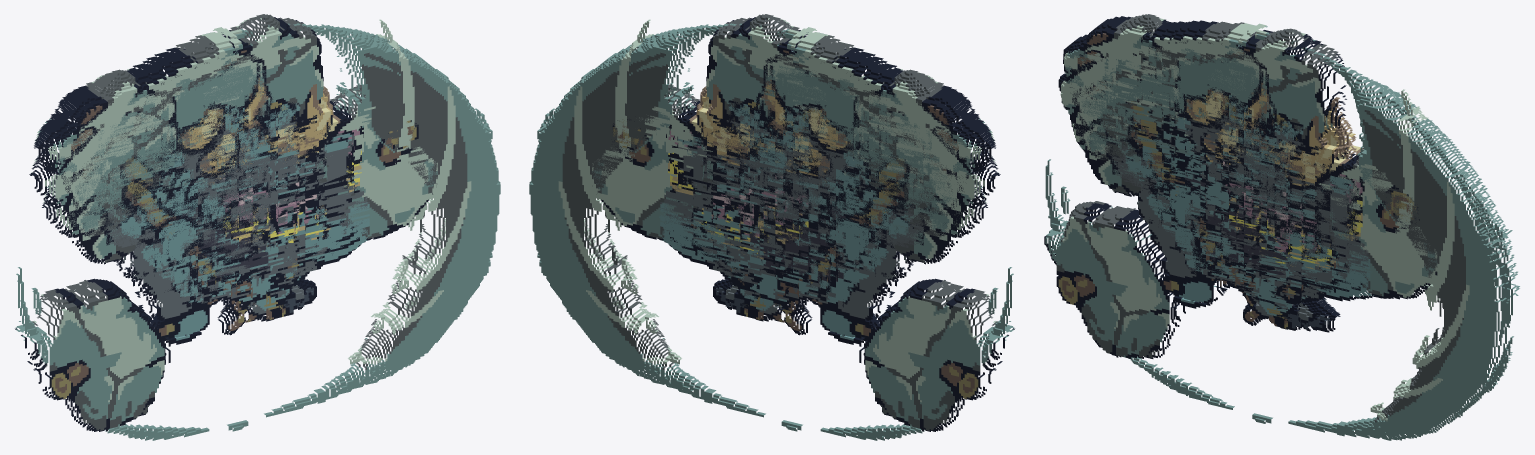
File: minotauro_golpe.glb
3 views of the same model, side by side, from view 1: azimuth 30°, elevation 25°; view 2: azimuth 150°, elevation 25°; view 3: azimuth 330°, elevation 25° (orthographic). The views are drawn at different scales.
Visible parts, largest first — view 1: q6, q0, q5, q1, q10, q2, q9, q7, q11, q8; view 2: q6, q5, q0, q1, q10, q2, q9, q7, q11, q8; view 3: q6, q5, q0, q10, q1, q9, q7, q2, q11, q8.
Boxes of the visible parts, x1,y1,x2,y2 form: q6: (105, 19, 500, 439); q0: (29, 97, 305, 338); q5: (15, 129, 328, 431); q1: (34, 73, 293, 297); q10: (156, 84, 437, 335); q2: (34, 69, 288, 295); q9: (203, 14, 370, 299); q7: (127, 31, 495, 440); q11: (42, 131, 324, 321); q8: (211, 50, 474, 242); q6: (529, 19, 924, 439); q5: (700, 128, 1014, 431); q0: (720, 97, 1000, 338); q1: (736, 73, 995, 297); q10: (592, 84, 873, 335); q2: (740, 69, 995, 297); q9: (659, 14, 826, 299); q7: (534, 31, 902, 440); q11: (707, 131, 987, 321); q8: (553, 49, 818, 240); q6: (1128, 20, 1519, 440); q5: (1044, 122, 1331, 358); q0: (1058, 49, 1319, 327); q10: (1190, 123, 1437, 328); q1: (1063, 17, 1300, 322); q9: (1207, 28, 1386, 318); q7: (1154, 32, 1516, 437); q2: (1063, 14, 1301, 325); q11: (1071, 77, 1350, 330); q8: (1215, 116, 1506, 382).
Bounding box in the file's own units: 245 × 199 × 19.99.
1 material, 1 textured.
